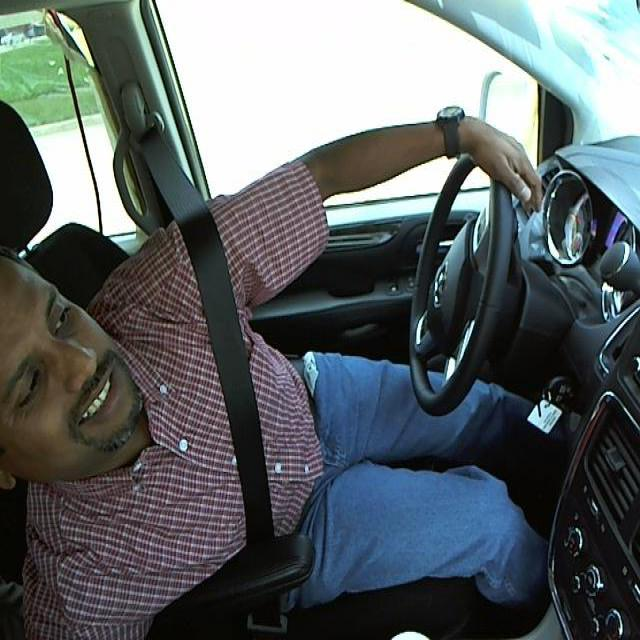seatbelt: (175, 220, 300, 581)
